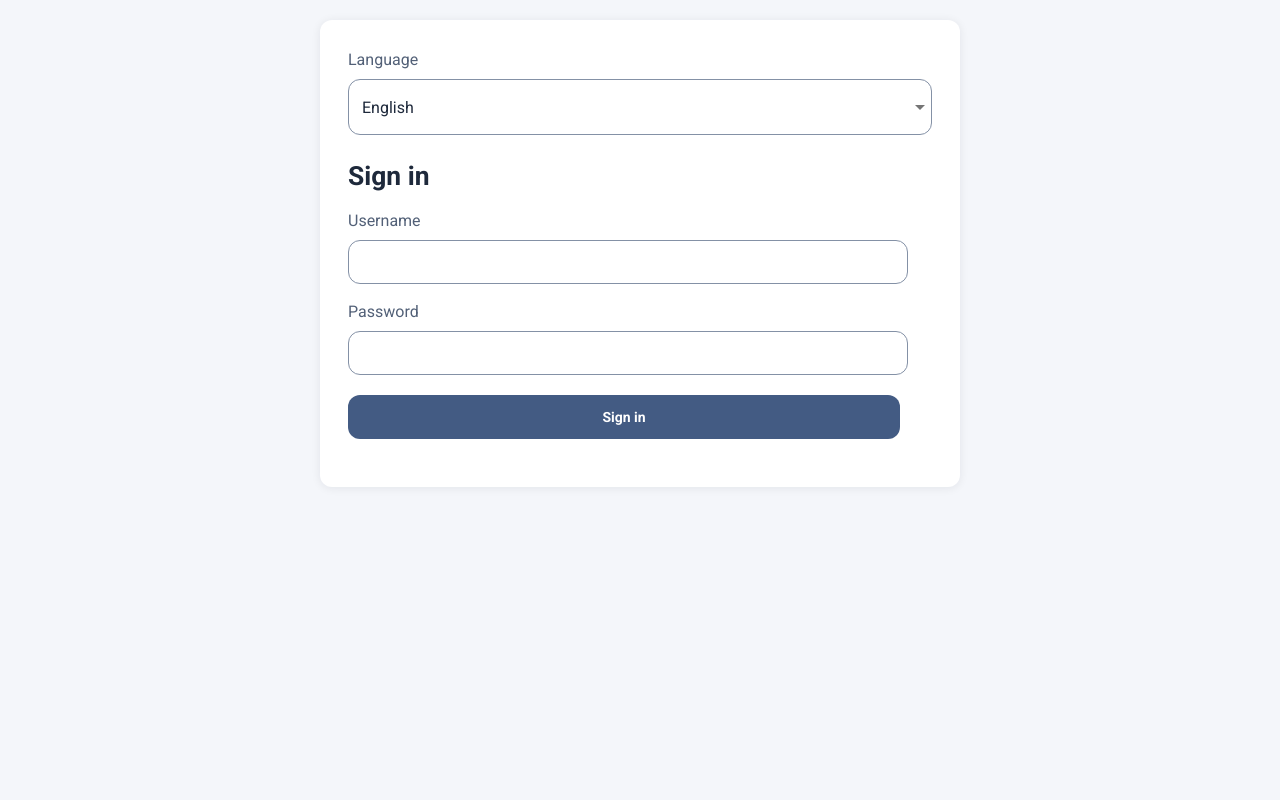
Test: signs in and sends credentials only in the JSON request body
Type "manager" into the field labelled "Username" at (628, 262), box x1=348 y1=242 x2=908 y2=282
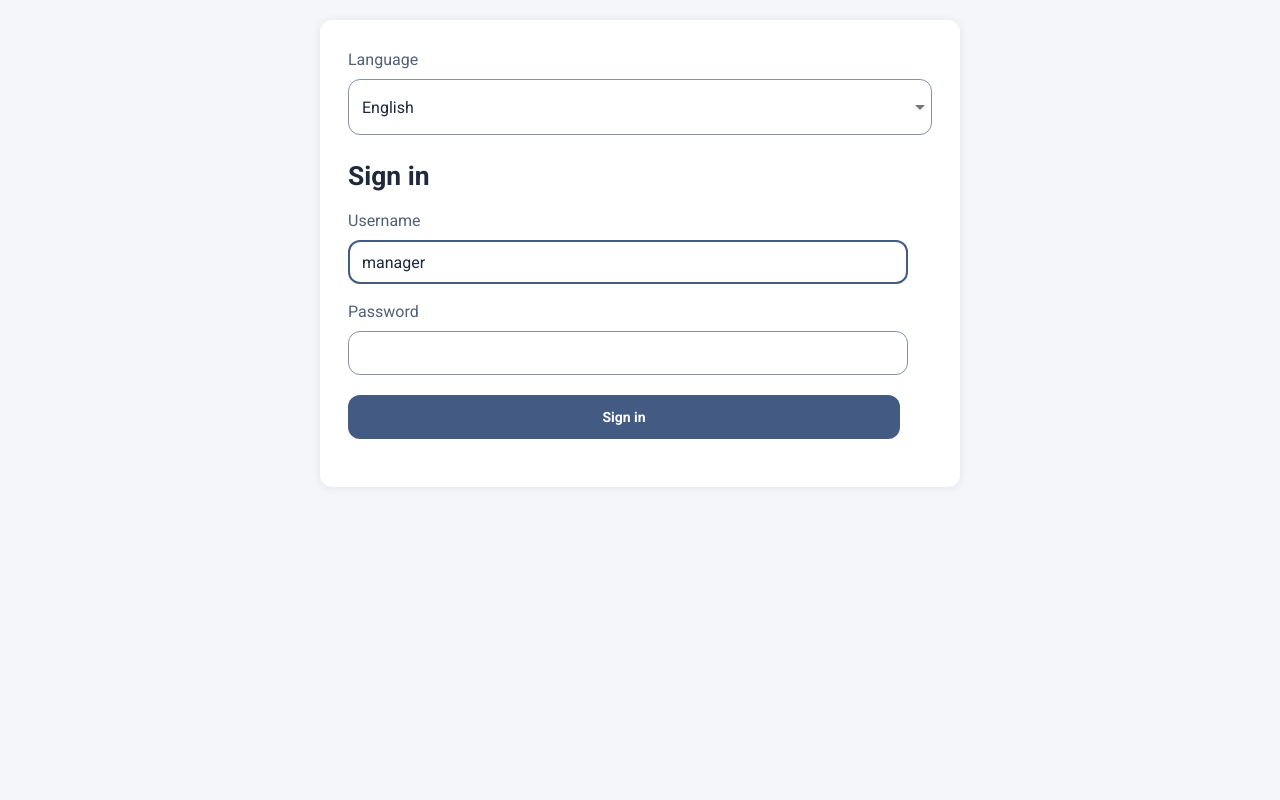
Type "private-password" into the password field labelled "Password" at (628, 353), box x1=348 y1=333 x2=908 y2=373
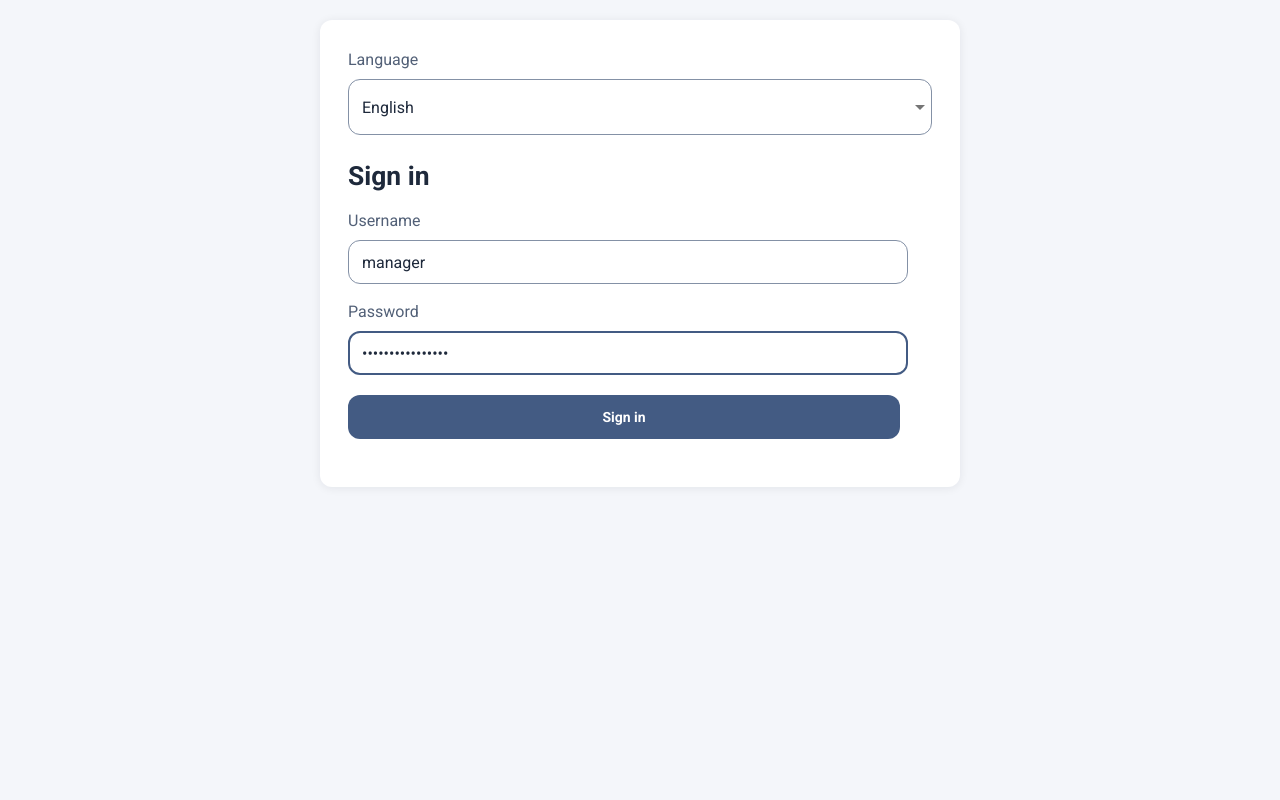
Click the button "Sign in" at (624, 417), box x1=348 y1=395 x2=900 y2=439
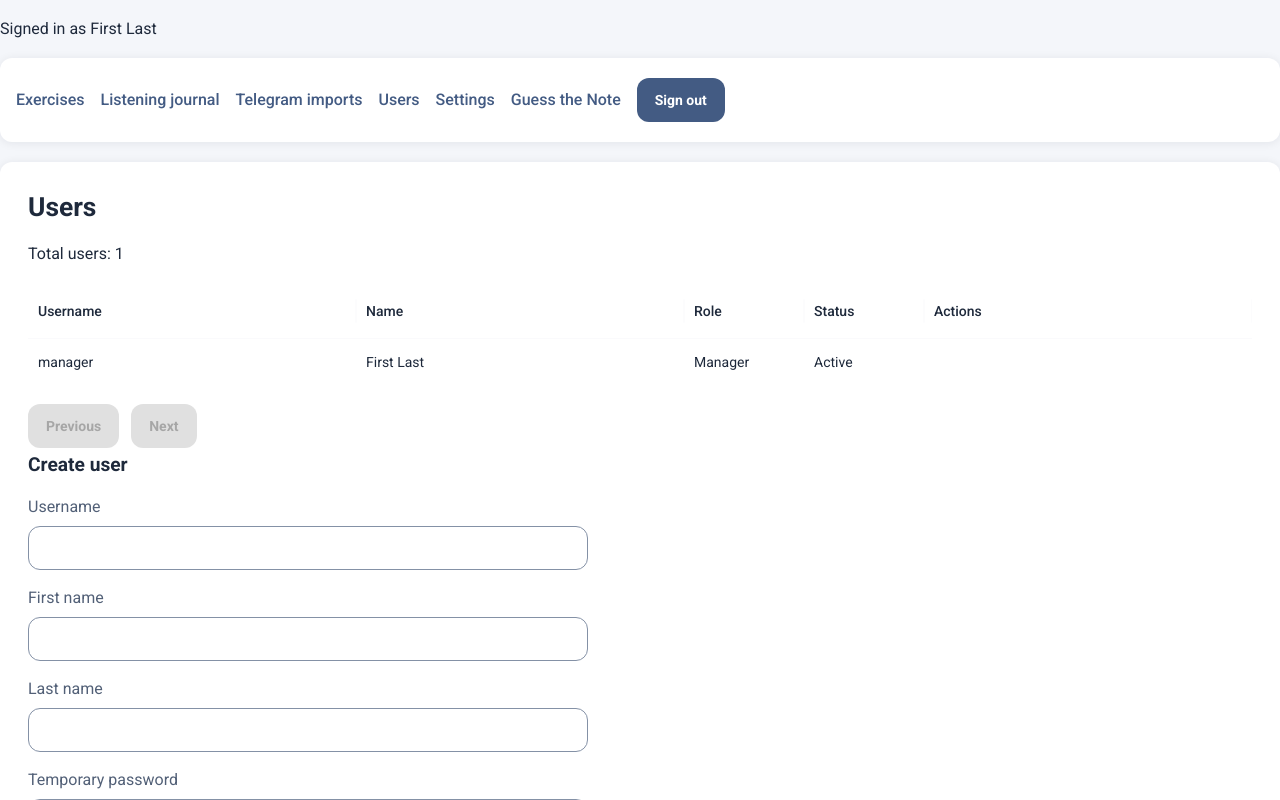
Result: the heading "Users" is shown at x1=28 y1=192 x2=96 y2=222
